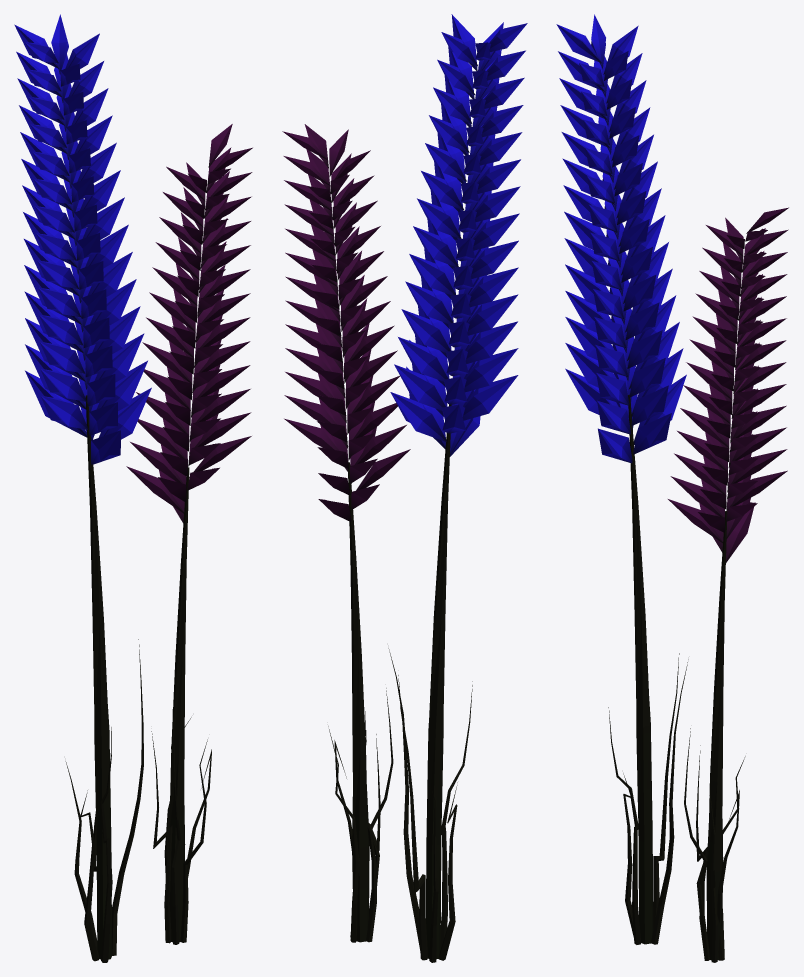
Rendered from Plant-3.fbx.
3 views of the same model, side by side, from view 1: azimuth 30°, elevation 25°; view 2: azimuth 150°, elevation 25°; view 3: azimuth 330°, elevation 25° (orthographic). The views are drawn at different scales.
Visible parts, largest first — view 1: file3; view 2: file3; view 3: file3.
Part boxes in pixels (left/top/right/bottom): file3: left=14, top=14, right=252, bottom=962; file3: left=282, top=14, right=527, bottom=962; file3: left=556, top=14, right=788, bottom=962.
Bounding box in the file's own units: 0.3175 × 1.26 × 0.1572.
